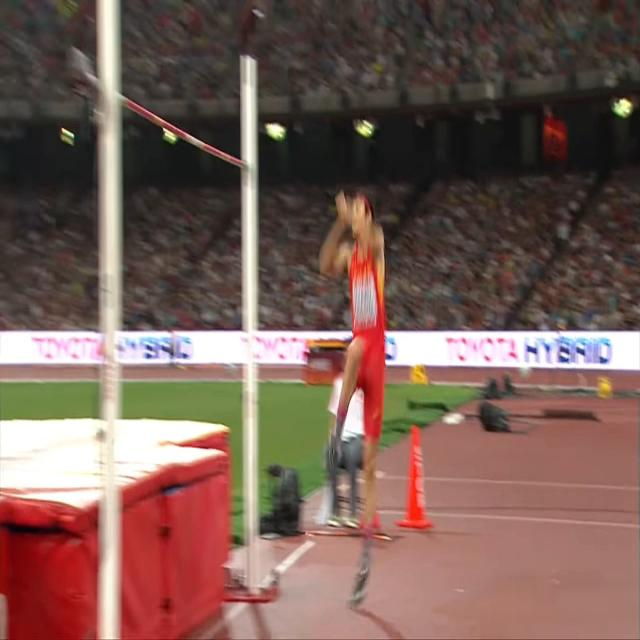jump: (319, 190, 383, 606)
